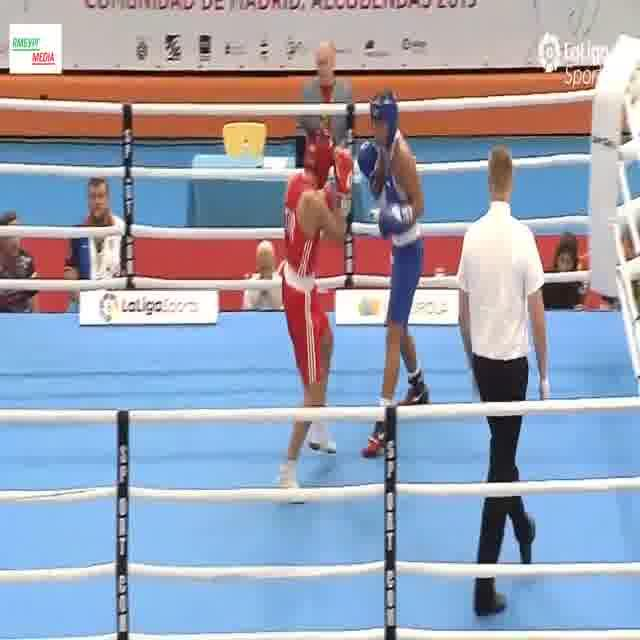blue-player: (353, 86, 432, 460)
red-player: (270, 126, 358, 508)
referee: (453, 144, 556, 620)
